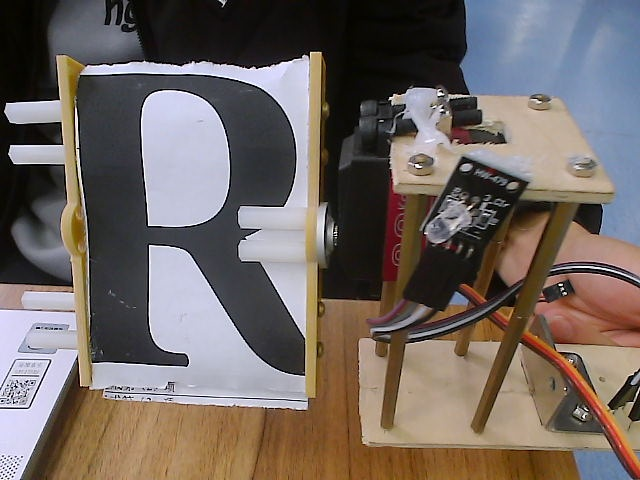R: (2, 41, 375, 468)
